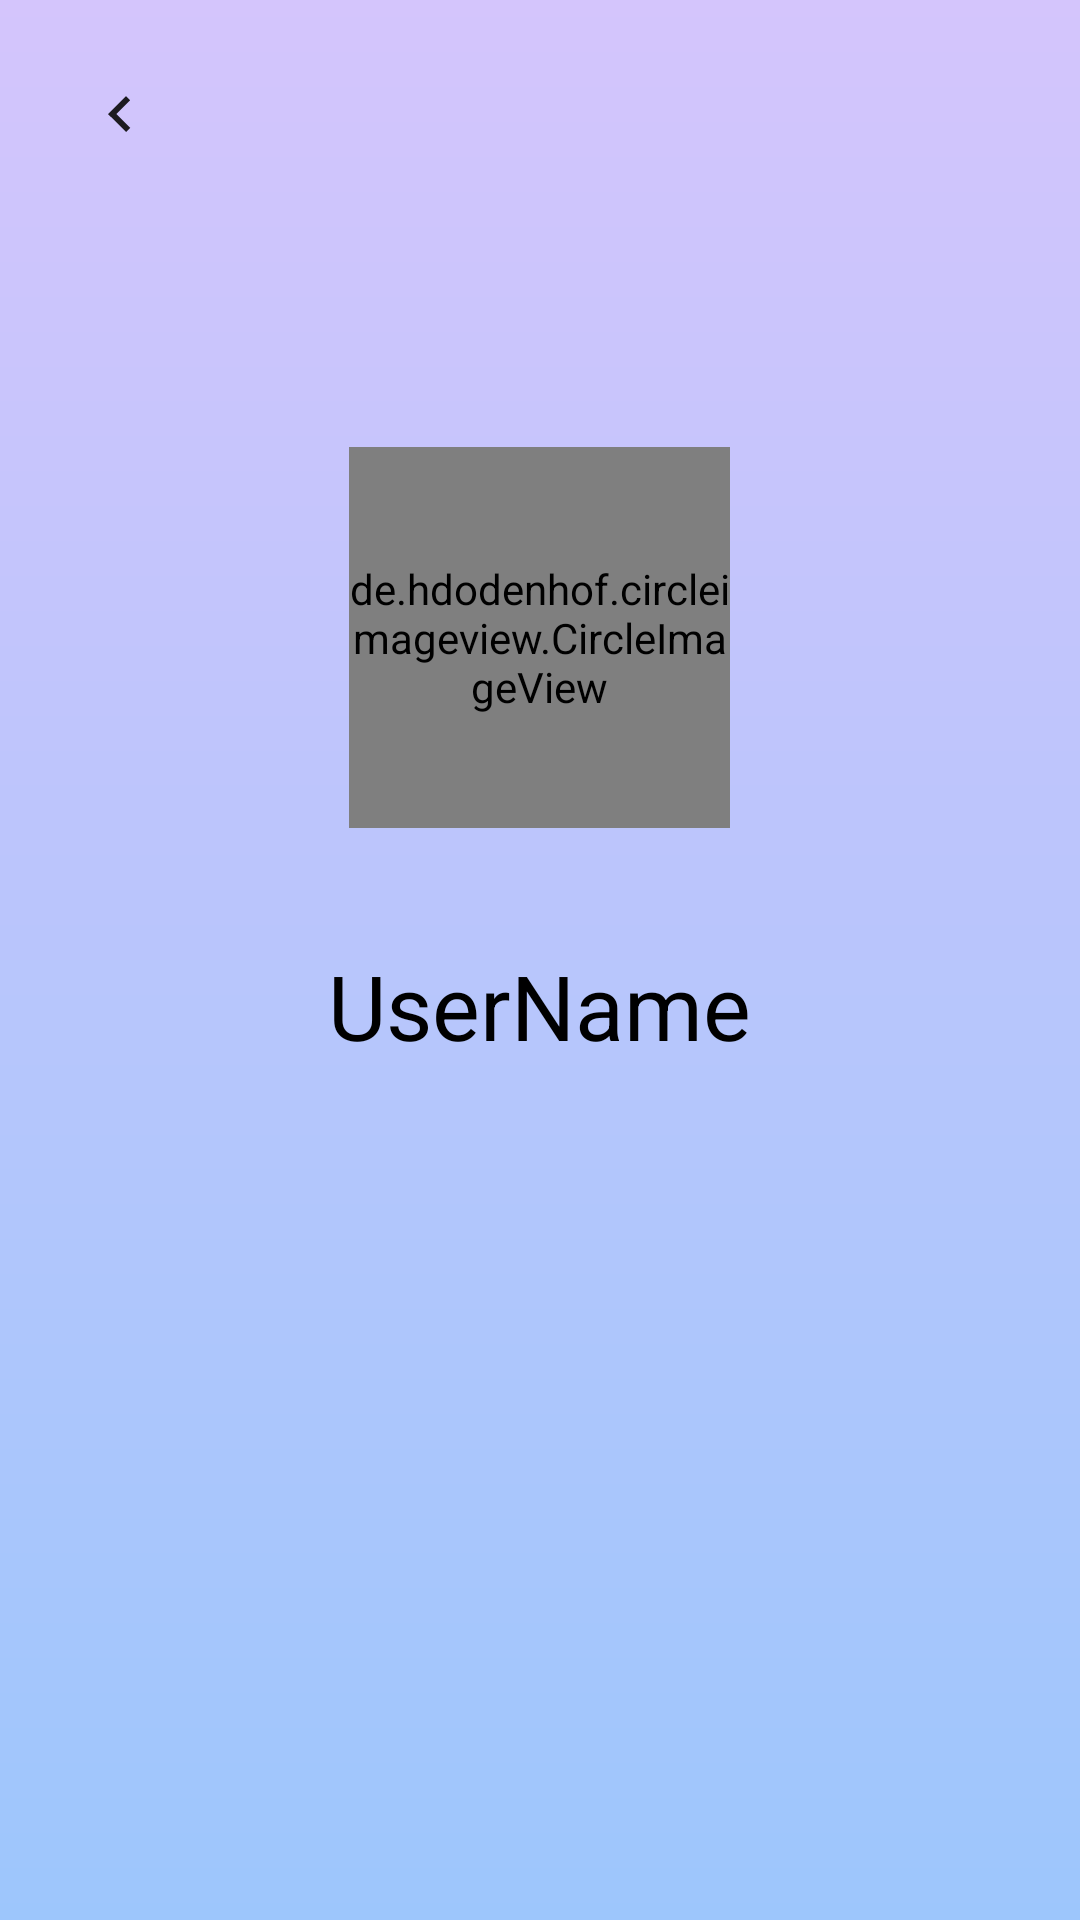

Icon bounding boxes for this 1080px×1920px phone screenshot, format (x1, y1, x2, y2):
Exit: (108, 96, 130, 132)
